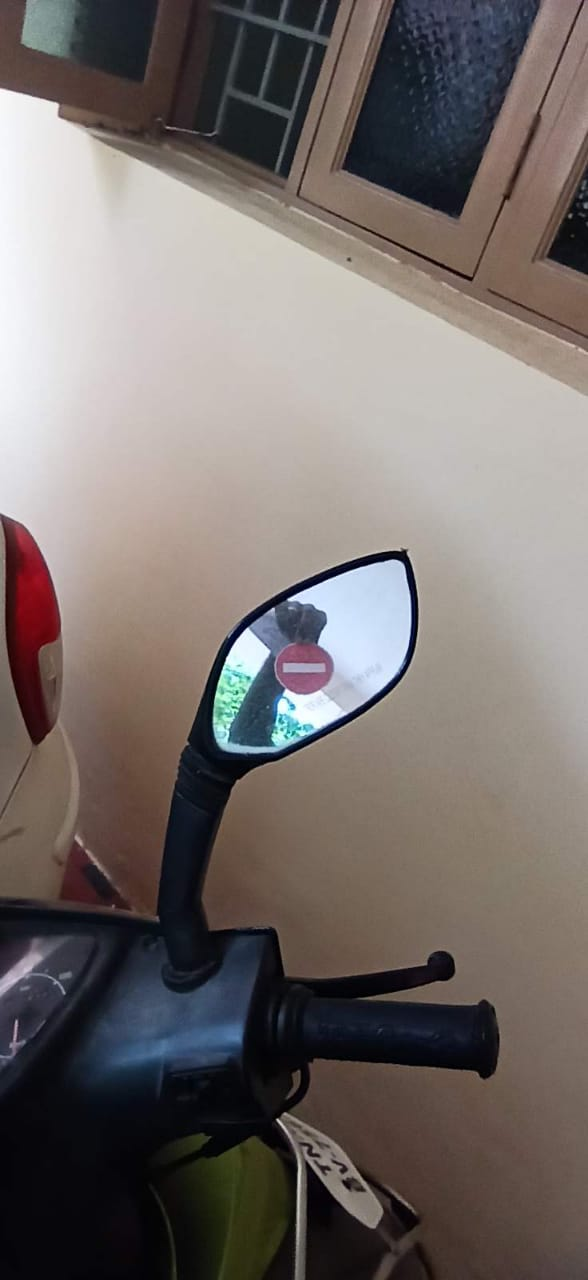NO ENTRY: (266, 627, 346, 710)
